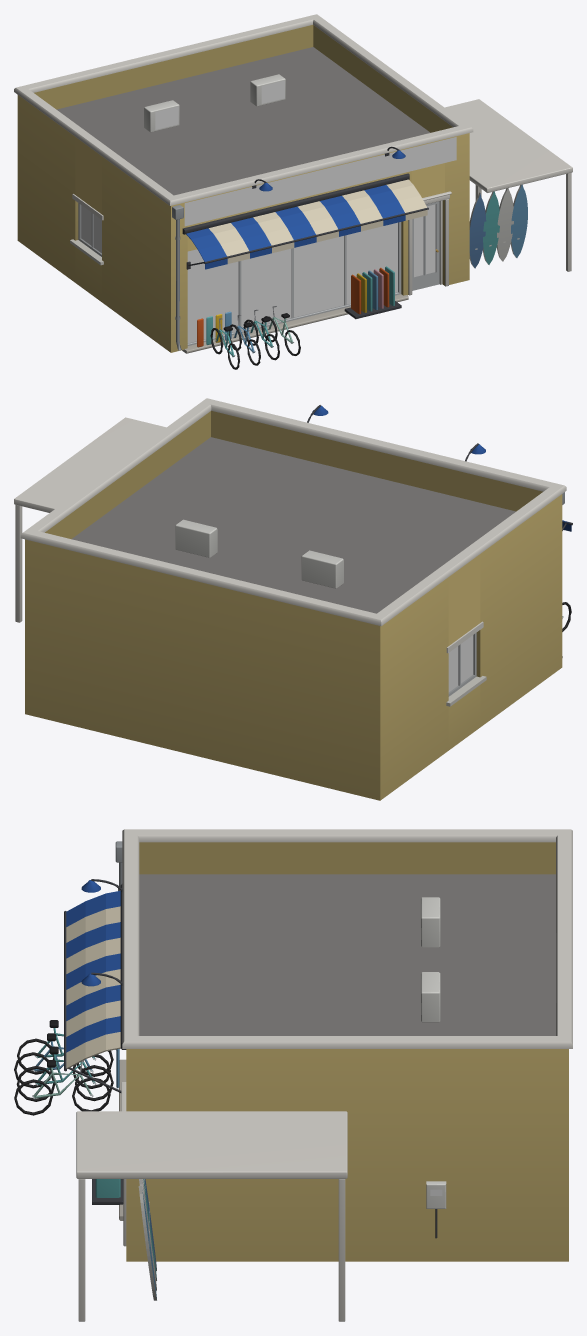
File: RentalsFL.fbx
3 renders of one model, top to bottom at view 1: azimuth 30°, elevation 25°; view 2: azimuth 150°, elevation 25°; view 3: azimuth 270°, elevation 25°, orthographic. The views are drawn at different scales.
Parts seen in each view (by area): view 1: RentalsFL; view 2: RentalsFL; view 3: RentalsFL.
Boxes of the visible parts, box(x1,y1,x2,y2) form: RentalsFL: box(14, 14, 572, 369); RentalsFL: box(14, 398, 572, 800); RentalsFL: box(14, 829, 572, 1321).
Size of the model in its own units: 11.7 by 4.67 by 10.1.
